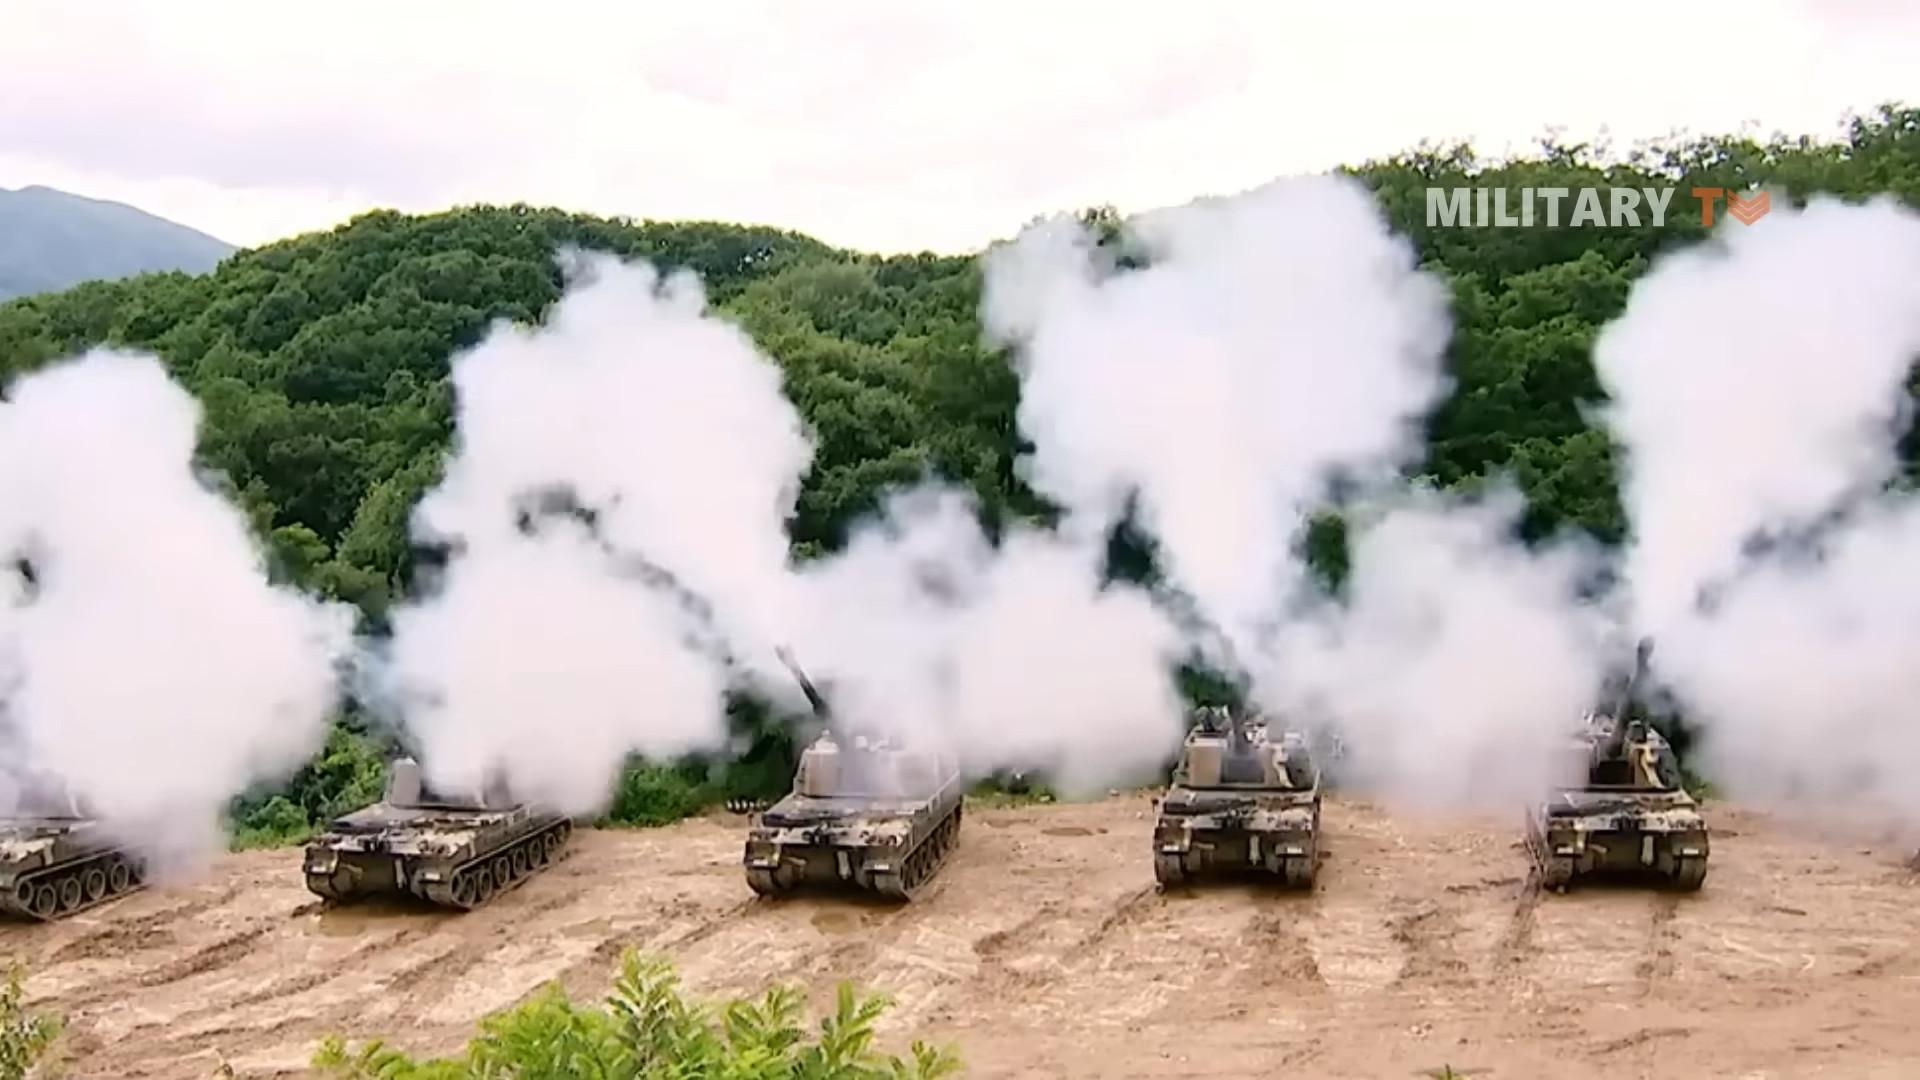tank: (744, 645, 965, 901), (1528, 632, 1712, 889), (307, 761, 571, 909), (1150, 700, 1323, 890)
